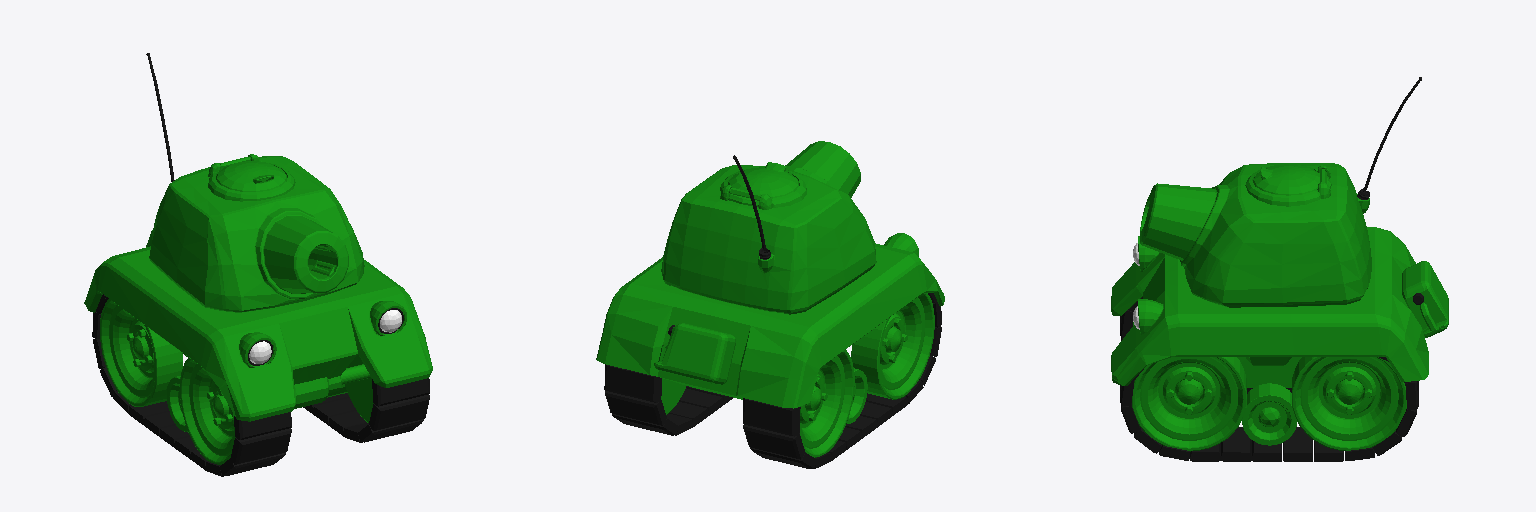
Rendered from Tanque.obj.
3 renders of one model, left to right at view 1: azimuth 30°, elevation 25°; view 2: azimuth 150°, elevation 25°; view 3: azimuth 270°, elevation 25°, orthographic.
Parts seen in each view (by area): view 1: TankChassis_Mesh.003, TankTurret_Mesh, TankTracksRight_Mesh.002, TankTracksLeft_Mesh.001; view 2: TankChassis_Mesh.003, TankTurret_Mesh, TankTracksRight_Mesh.002, TankTracksLeft_Mesh.001; view 3: TankChassis_Mesh.003, TankTurret_Mesh, TankTracksLeft_Mesh.001.
Part boxes in pixels (bbox=[...]): TankChassis_Mesh.003: bbox=[84, 230, 432, 431]; TankTurret_Mesh: bbox=[146, 53, 364, 312]; TankTracksRight_Mesh.002: bbox=[92, 294, 291, 476]; TankTracksLeft_Mesh.001: bbox=[303, 355, 429, 442]; TankChassis_Mesh.003: bbox=[596, 233, 944, 423]; TankTurret_Mesh: bbox=[661, 141, 876, 314]; TankTracksRight_Mesh.002: bbox=[743, 293, 941, 468]; TankTracksLeft_Mesh.001: bbox=[604, 364, 732, 435]; TankChassis_Mesh.003: bbox=[1111, 227, 1448, 445]; TankTurret_Mesh: bbox=[1140, 77, 1421, 307]; TankTracksLeft_Mesh.001: bbox=[1120, 357, 1418, 461].
Size of the model in its own units: 1.7 by 2.49 by 2.37.